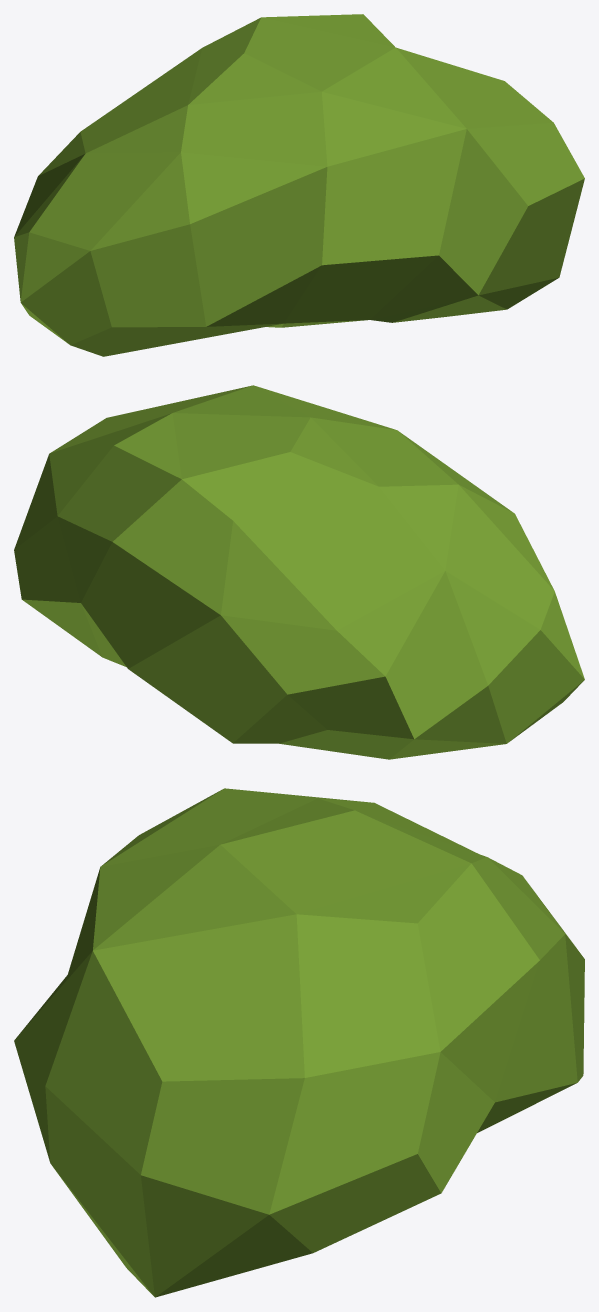
The model's file is bush.fbx.
3 views of the same model, one above another, from view 1: azimuth 30°, elevation 25°; view 2: azimuth 150°, elevation 25°; view 3: azimuth 270°, elevation 25° (orthographic). The views are drawn at different scales.
Parts seen in each view (by area): view 1: bush; view 2: bush; view 3: bush.
Part boxes in pixels (<box>): bush: <box>14,14,584,356</box>; bush: <box>14,385,584,759</box>; bush: <box>14,788,584,1297</box>.
Size of the model in its own units: 662 by 310 by 458.
